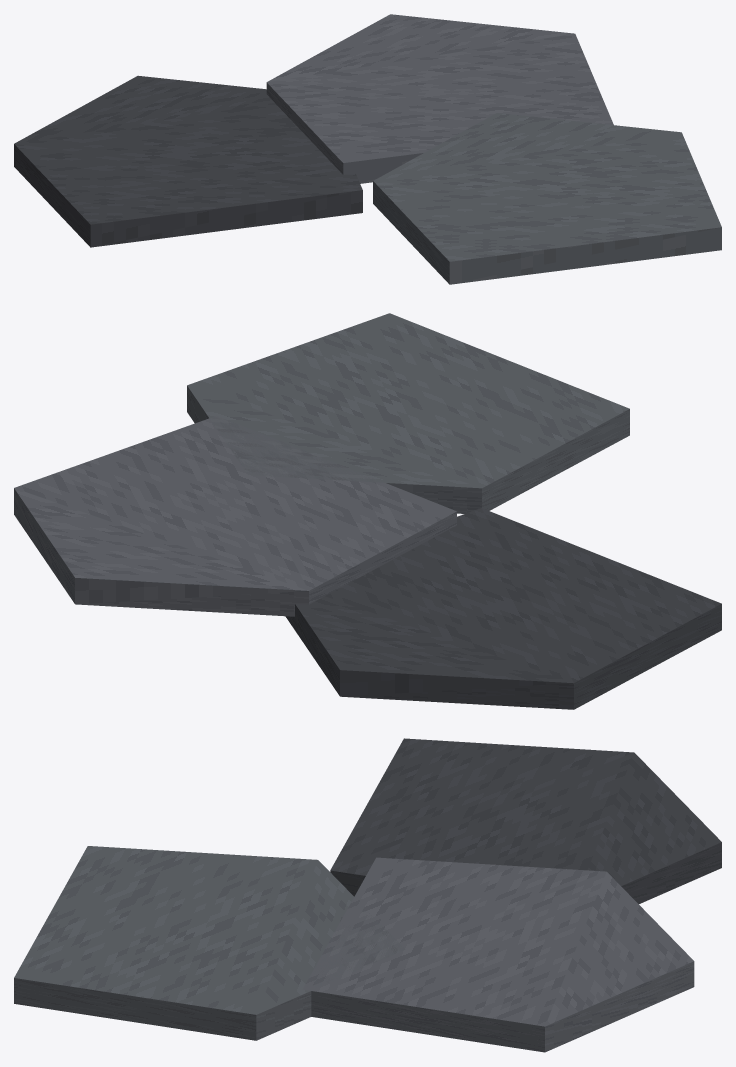
Rendered from scrap_cotton.glb.
3 views of the same model, one above another, from view 1: azimuth 30°, elevation 25°; view 2: azimuth 150°, elevation 25°; view 3: azimuth 270°, elevation 25° (orthographic). The views are drawn at different scales.
Parts seen in each view (by area): view 1: block_irregular tailor offcut (×3); view 2: block_irregular tailor offcut (×3); view 3: block_irregular tailor offcut (×3).
Boxes of the visible parts, <box> form: block_irregular tailor offcut (×3): <box>14,14,721,284</box>; block_irregular tailor offcut (×3): <box>14,313,721,709</box>; block_irregular tailor offcut (×3): <box>14,738,721,1052</box>.
Size of the model in its own units: 0.0188 by 0.00114 by 0.0187.
1 material, 1 textured.
